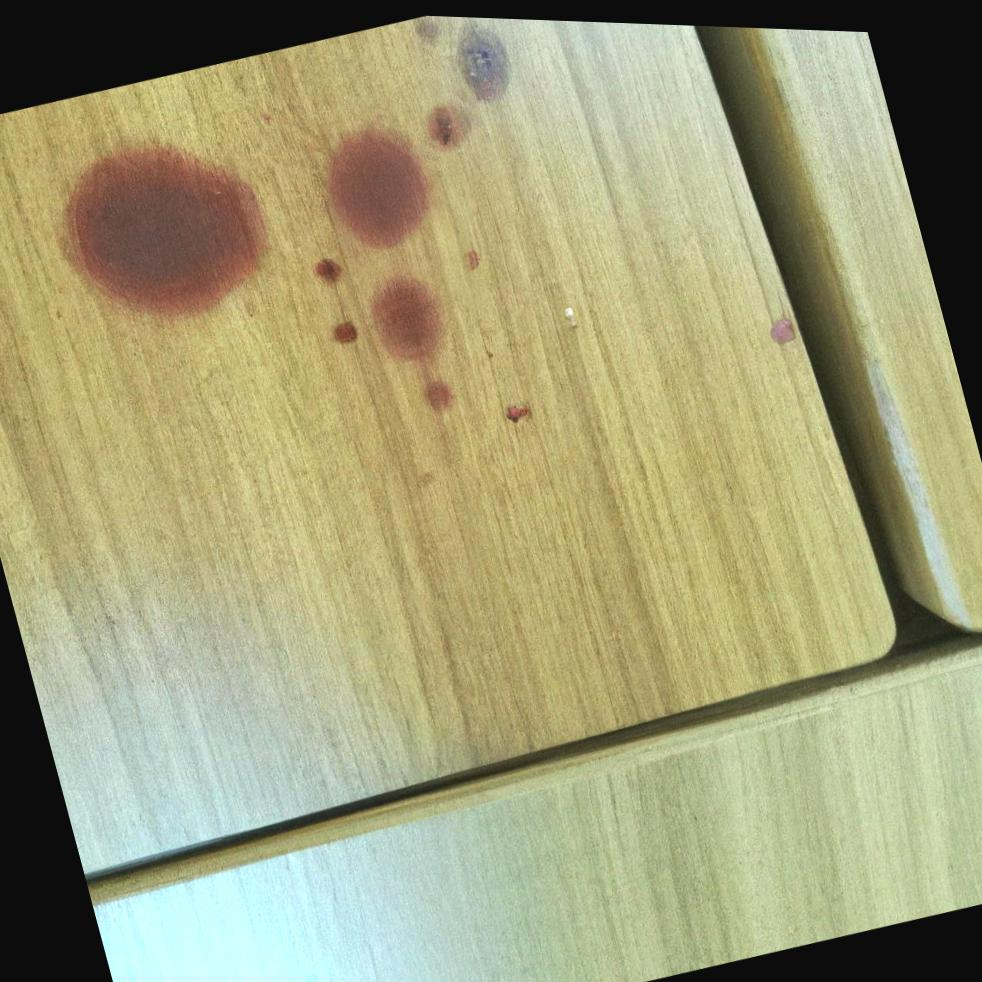Fire: (62, 141, 272, 317), (326, 122, 433, 248), (369, 267, 454, 410), (425, 100, 473, 147), (315, 255, 343, 280), (334, 318, 359, 341)
